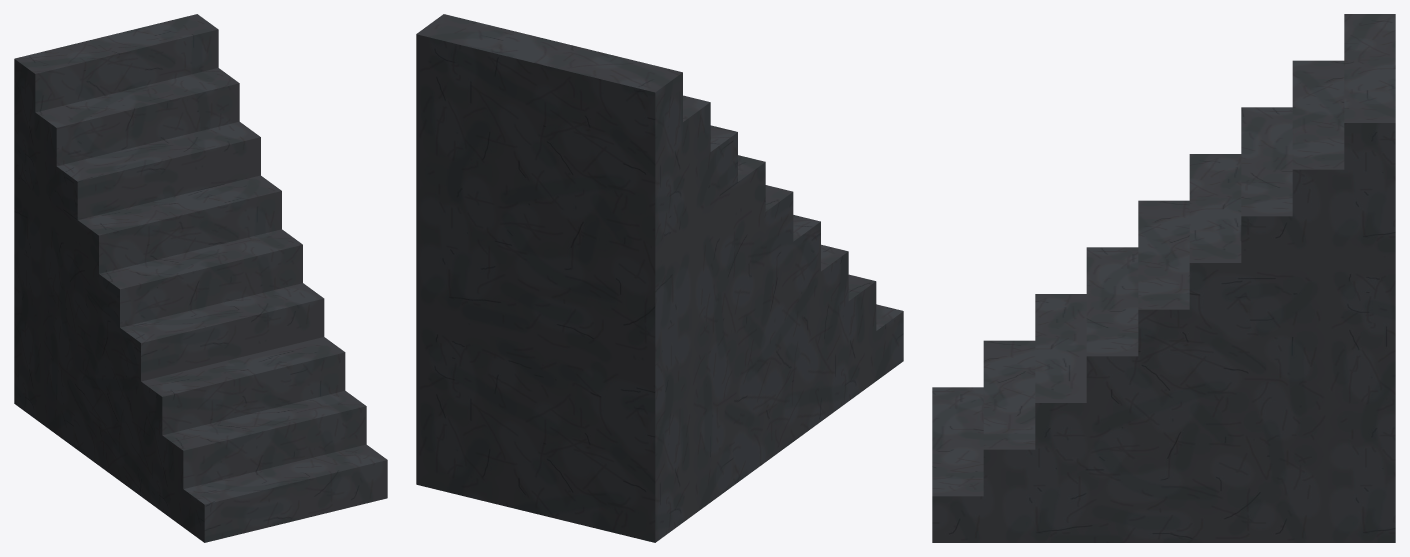
Rendered from Stair with 7 step.fbx.
3 renders of one model, left to right at view 1: azimuth 30°, elevation 25°; view 2: azimuth 150°, elevation 25°; view 3: azimuth 270°, elevation 25°, orthographic. The views are drawn at different scales.
Visible parts, largest first — view 1: Cube; view 2: Cube; view 3: Cube.
Boxes of the visible parts, bbox=[...] form: Cube: bbox=[14, 14, 387, 542]; Cube: bbox=[416, 14, 903, 542]; Cube: bbox=[932, 14, 1395, 542].
Size of the model in its own units: 1000 by 1800 by 1800.
Materials: 1 (1 with a texture image).
